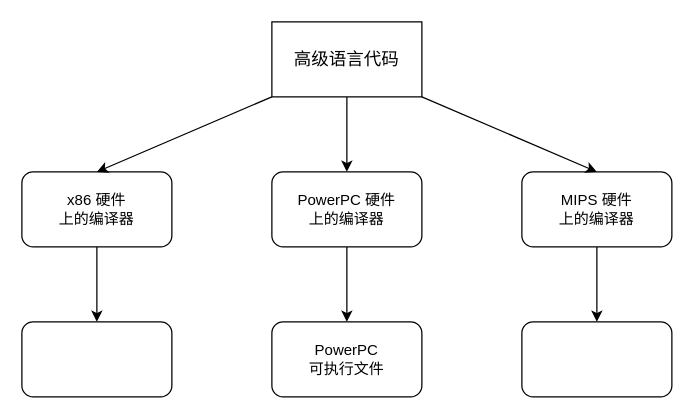
The diagram is 694 pixels wide and 419 high, and some of its shapes have lost their labels. Here are the shapes that lost their labels. From the top down, the box of each, then its label:
(21, 321, 172, 397): x86 可执行文件
(521, 321, 672, 397): MIPS 可执行文件
